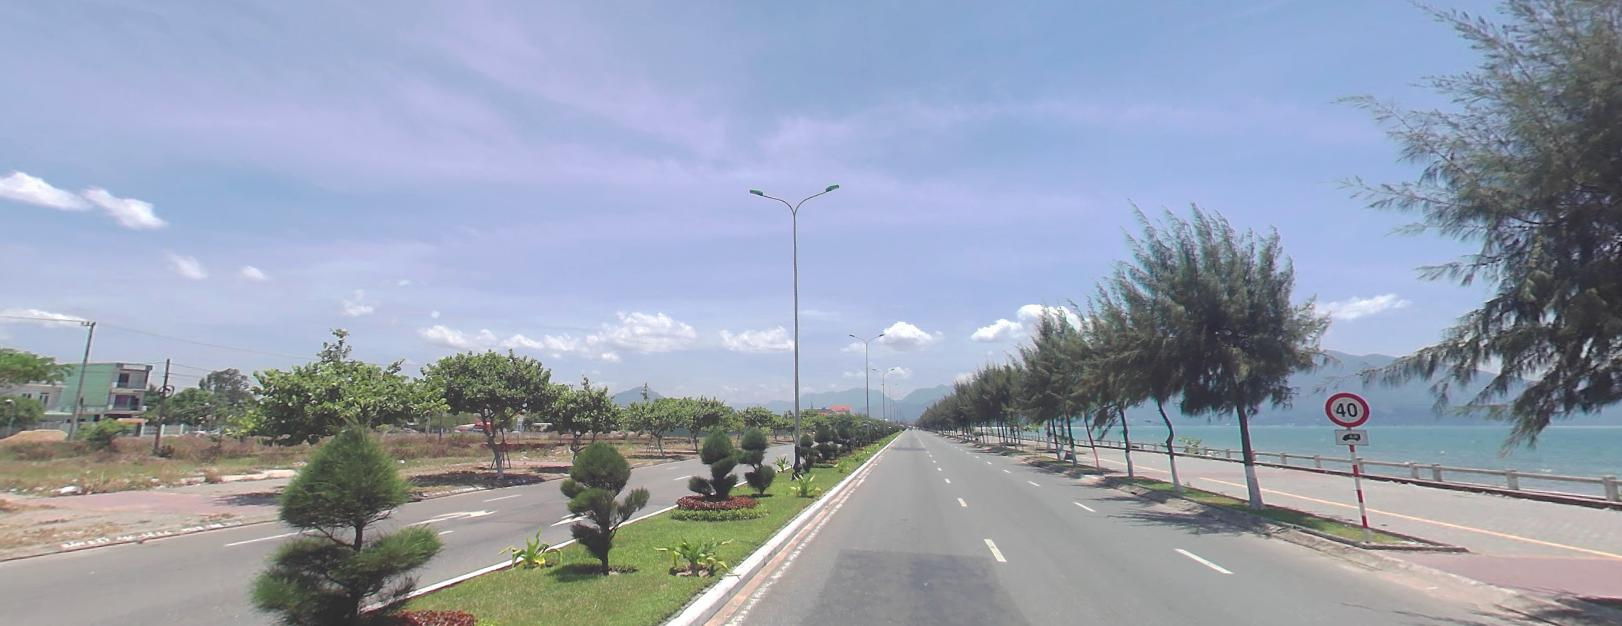Gioi han toc do: (1321, 387, 1368, 426)
